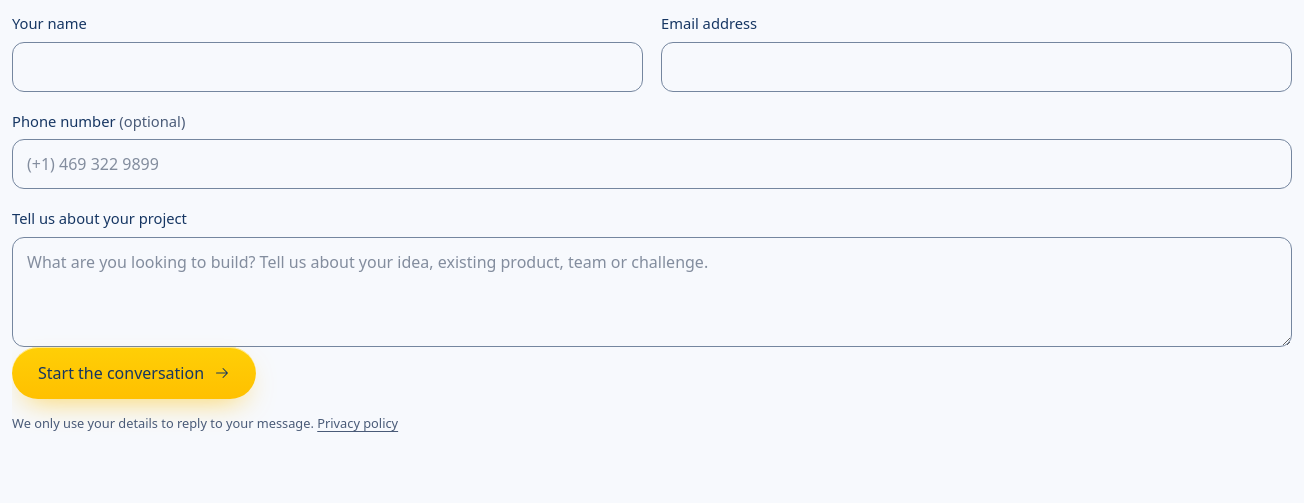
Scenario: HomeContactForm › shows, announces and focuses the errors of an empty form
This screenshot has width=1304, height=503.
Click the button "Start the conversation" at (134, 373), box x1=12 y1=347 x2=256 y2=399
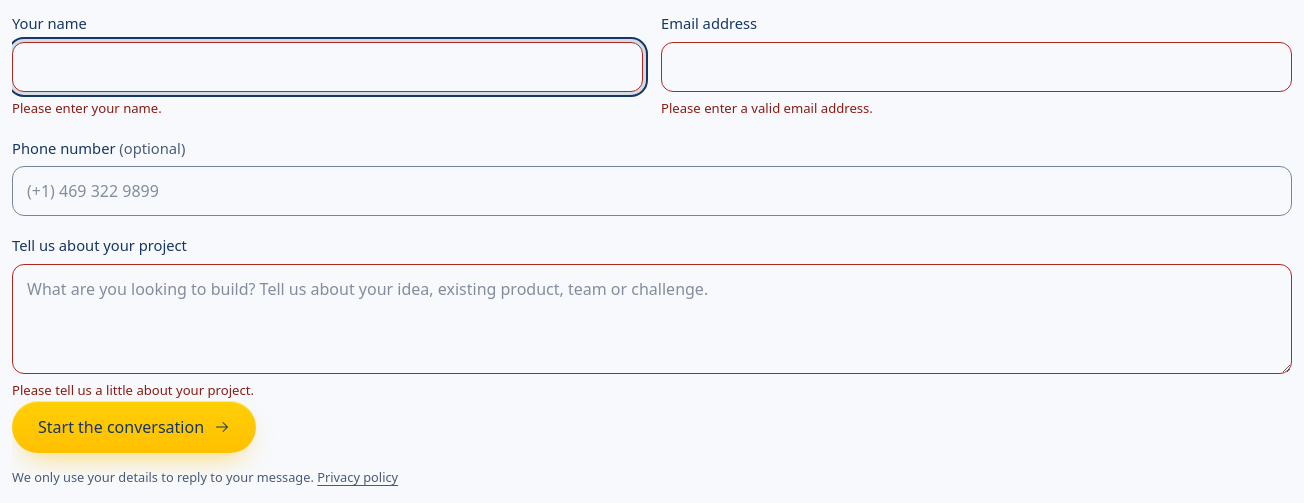
Now the text "Please enter your name." is shown, box x1=12 y1=98 x2=162 y2=116
Now the text "Please enter a valid email address." is shown, box x1=661 y1=98 x2=873 y2=116
Now the text "Please tell us a little about your project." is shown, box x1=12 y1=381 x2=254 y2=399
